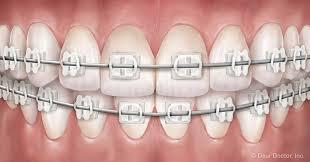Braces: (0, 42, 310, 124)
